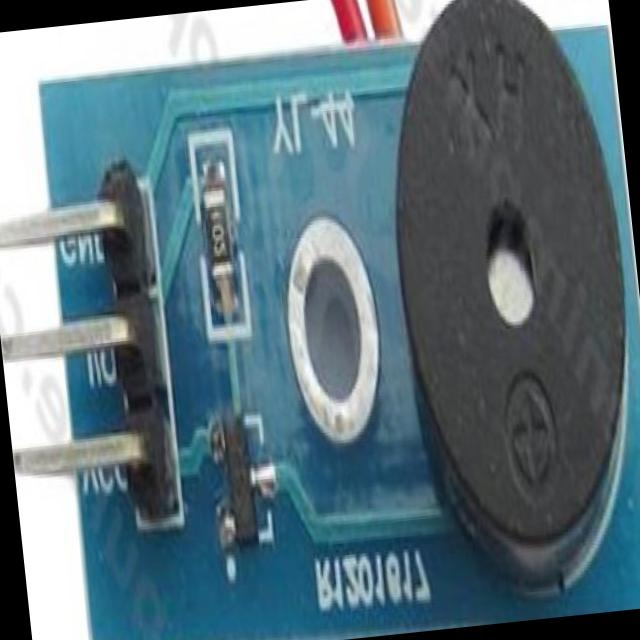connector: (0, 173, 185, 558)
resistor: (195, 162, 238, 312)
transistor: (212, 425, 272, 548)
